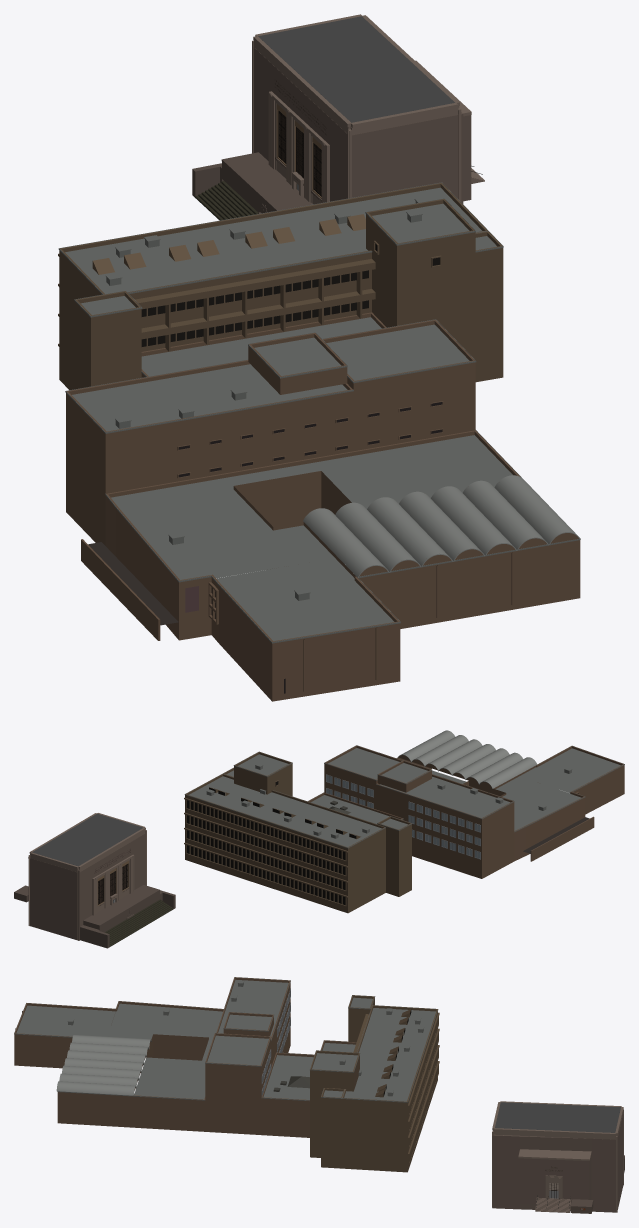
The picture shows the model from 3 angles, top to bottom: view 1: azimuth 30°, elevation 25°; view 2: azimuth 150°, elevation 25°; view 3: azimuth 270°, elevation 25°; orthographic projection. The views are drawn at different scales.
Visible parts, largest first — view 1: opaque, glass; view 2: opaque, glass; view 3: opaque, glass.
Part boxes in pixels (<box>): opaque: <box>58,14,580,701</box>; glass: <box>141,184,442,693</box>; opaque: <box>14,730,624,948</box>; glass: <box>113,775,480,905</box>; opaque: <box>14,977,624,1213</box>; glass: <box>264,997,558,1198</box>.
Size of the model in its own units: 123 by 30.13 by 168.
Materials: 2 (2 with a texture image).
